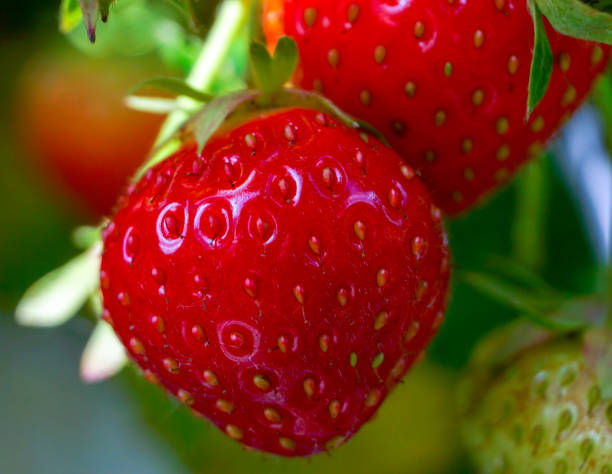Fresa: (94, 95, 456, 464), (254, 2, 612, 231)
